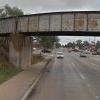Car: (53, 48, 64, 65)
